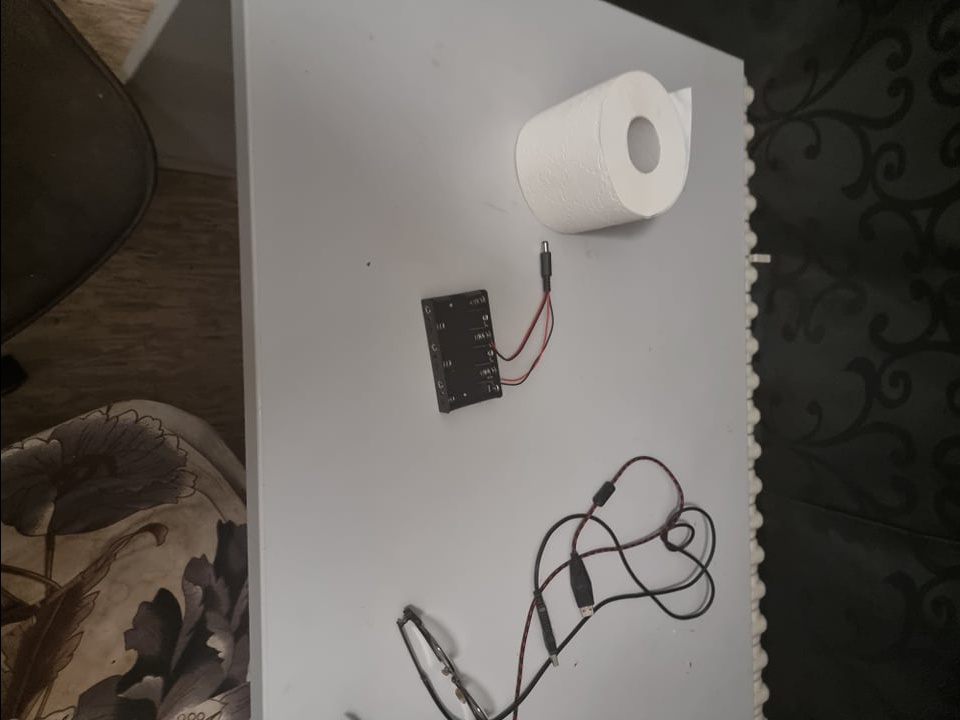BATTERY BOX: (419, 281, 498, 417)
